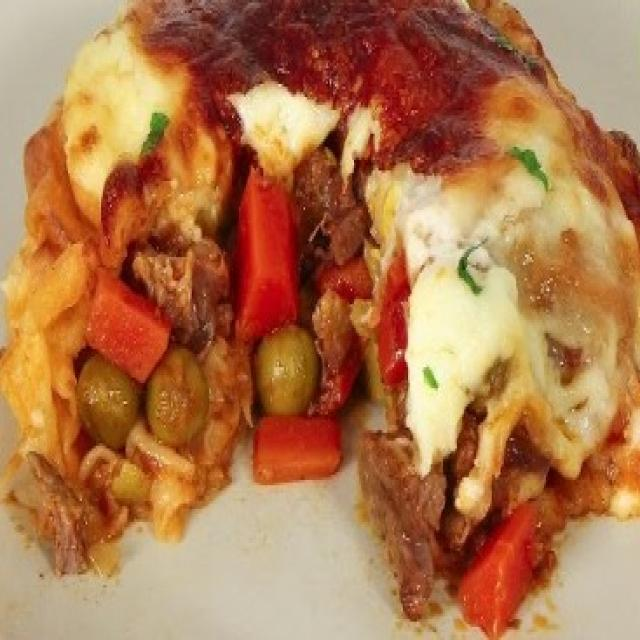ana_yemek: (1, 0, 636, 632)
